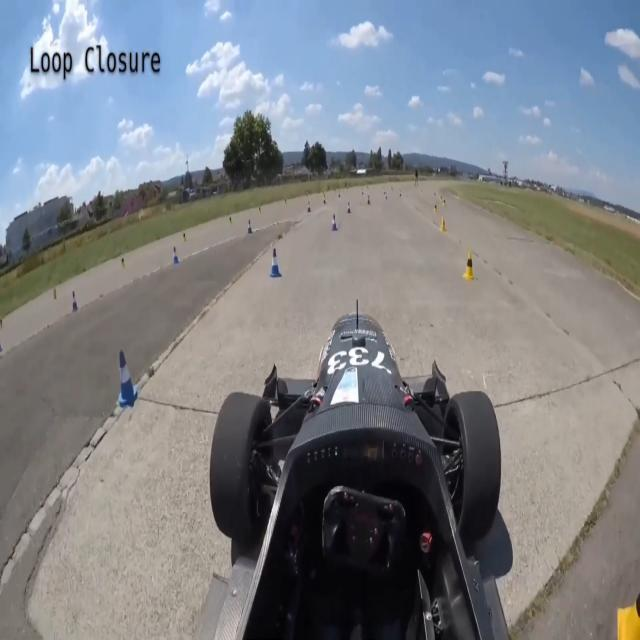blue_cone: (110, 348, 138, 407), (267, 243, 283, 280), (328, 210, 338, 234)
yellow_cone: (460, 254, 477, 288)
